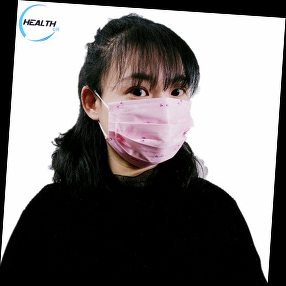with_mask: (100, 68, 194, 166)
